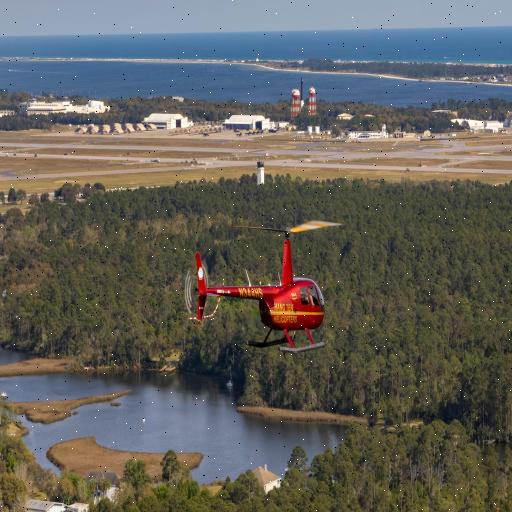helicopter: (178, 202, 353, 367)
